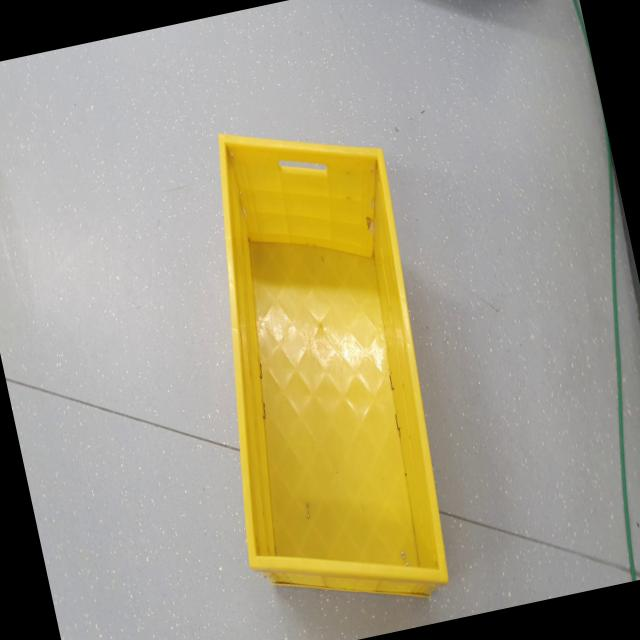box: (151, 79, 490, 640)
